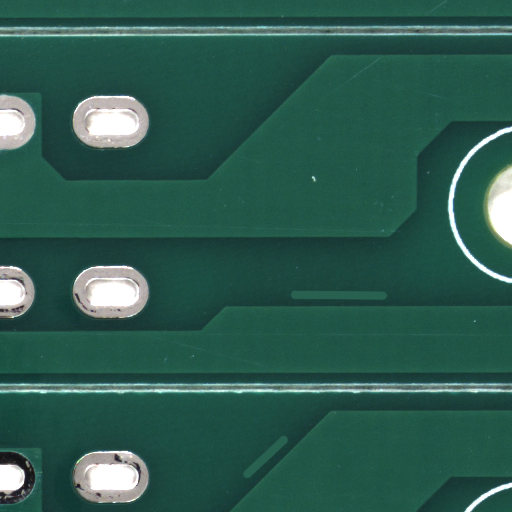Spurious_copper: (264, 456, 310, 499), (336, 295, 437, 310)
